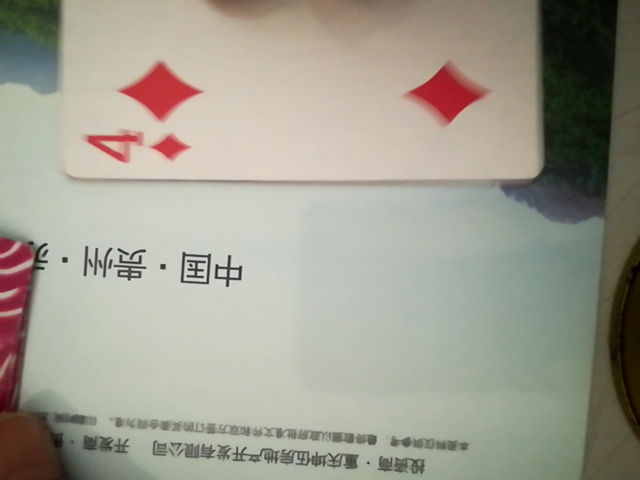fk 4: (47, 2, 544, 185)
